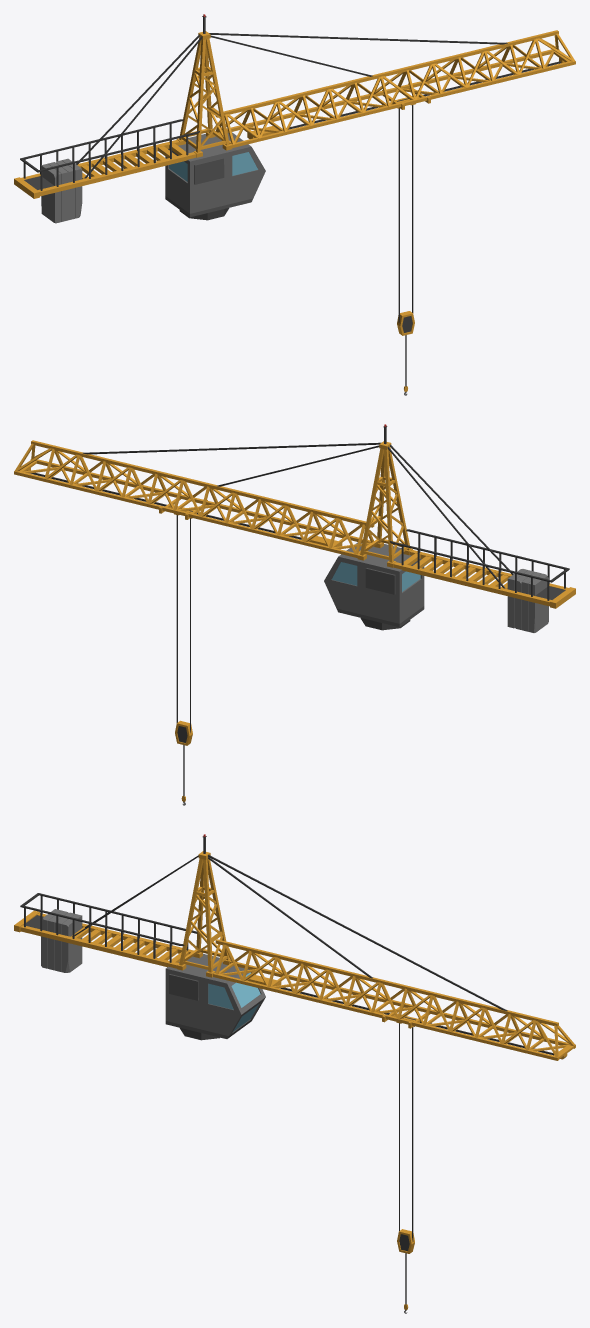
The model's file is TowerCrane_01_2.fbx.
3 renders of one model, top to bottom at view 1: azimuth 30°, elevation 25°; view 2: azimuth 150°, elevation 25°; view 3: azimuth 330°, elevation 25°, orthographic.
Visible parts, largest first — view 1: TowerCrane_01_2; view 2: TowerCrane_01_2; view 3: TowerCrane_01_2.
Part boxes in pixels (x1,y1,x2,y2): TowerCrane_01_2: [14, 14, 575, 395]; TowerCrane_01_2: [14, 424, 575, 805]; TowerCrane_01_2: [14, 834, 575, 1313].
Size of the model in its own units: 2038 by 1543 by 172.
